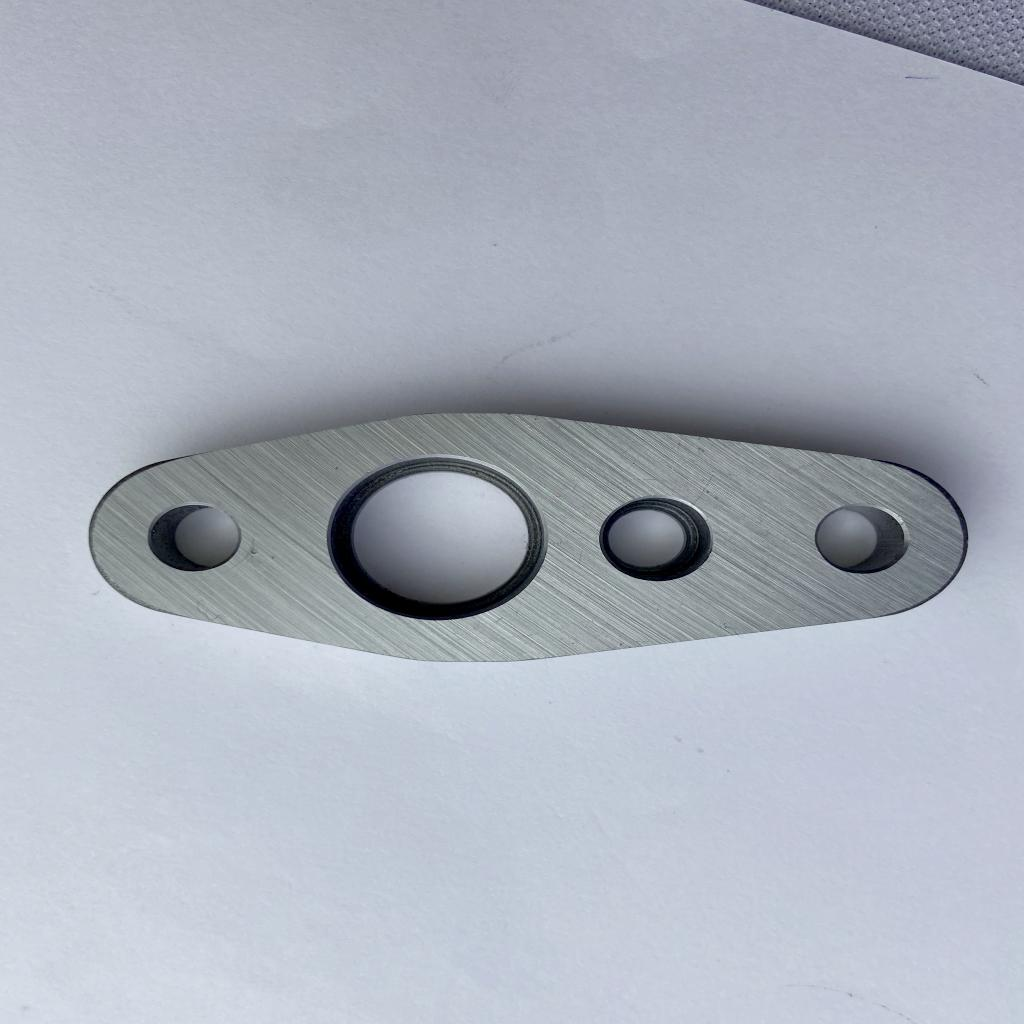chap: (245, 545, 260, 557), (268, 554, 277, 562)
lines: (694, 474, 712, 504)
